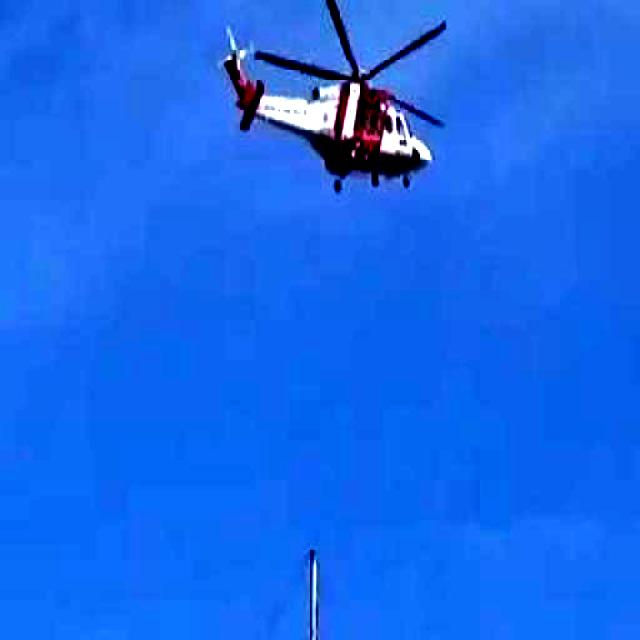drone: (192, 0, 532, 249)
